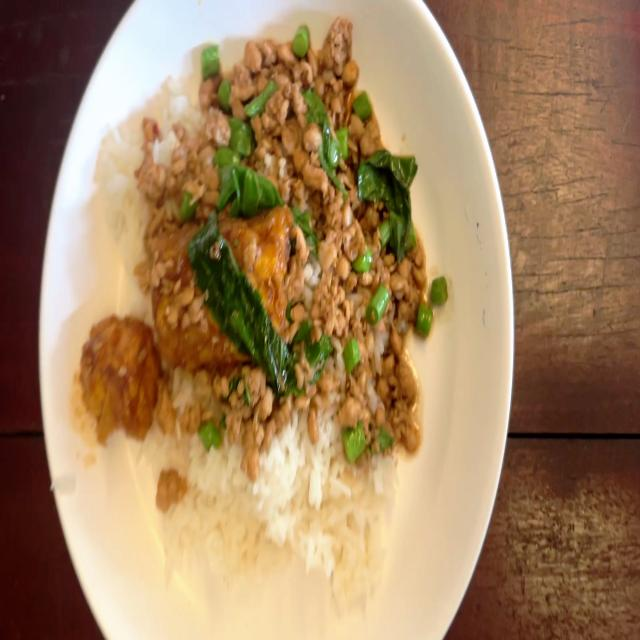fried_tofo: (150, 218, 306, 360), (88, 326, 154, 432)
minced_pork: (306, 205, 432, 438), (200, 18, 390, 151), (172, 146, 424, 204), (157, 372, 316, 439), (144, 118, 172, 225)
rice: (144, 436, 392, 594), (92, 94, 144, 267), (161, 65, 200, 150)
stir_fried_basil: (80, 12, 449, 608)
